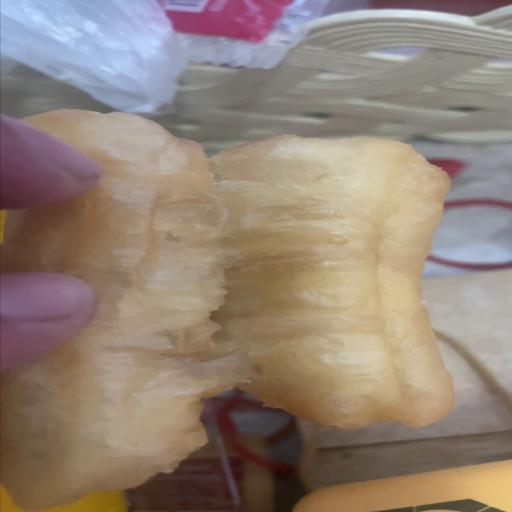street_golden_defect: (0, 124, 455, 512)
street_golden_good: (294, 461, 511, 512)
